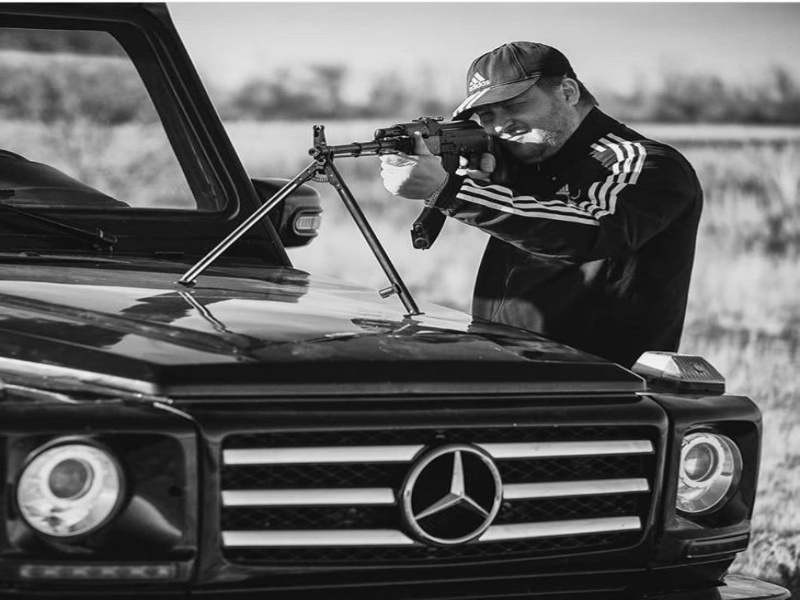car: (1, 1, 762, 600)
person: (380, 41, 704, 356)
weapon: (309, 117, 490, 248)
